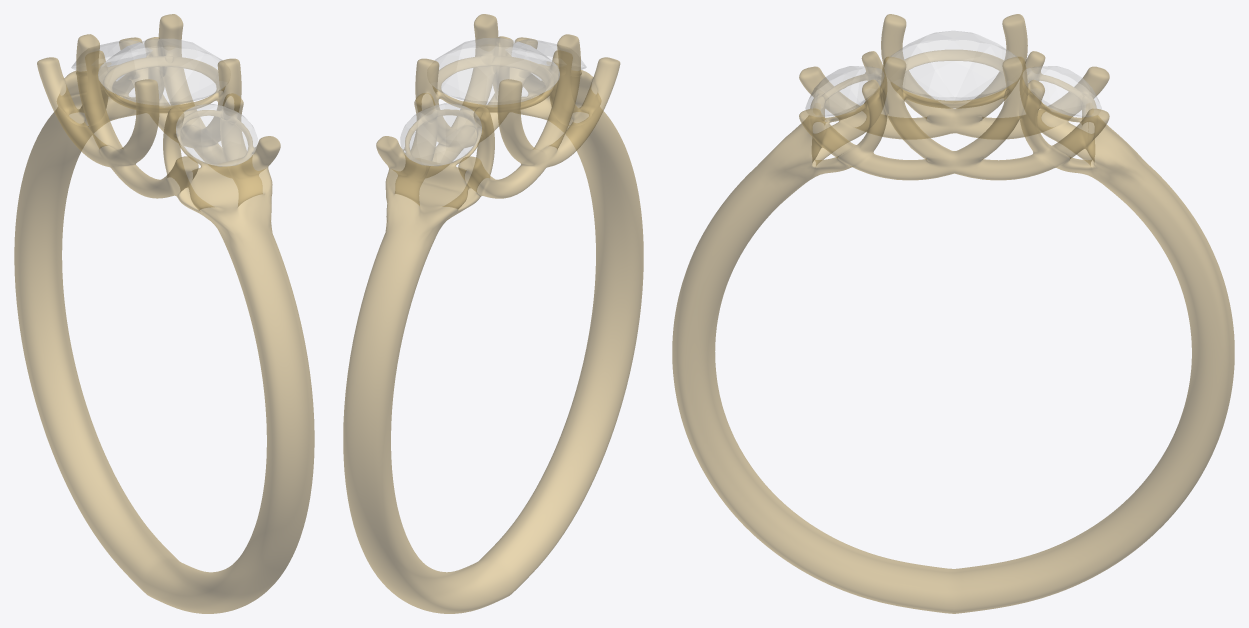
The picture shows the model from 3 angles, left to right: view 1: azimuth 30°, elevation 25°; view 2: azimuth 150°, elevation 25°; view 3: azimuth 270°, elevation 25°; orthographic projection. The views are drawn at different scales.
Visible parts, largest first — view 1: Ring, Diamond; view 2: Ring, Diamond; view 3: Ring, Diamond.
Part boxes in pixels (box(x1,y1,x2,y2)): Ring: box(14, 14, 314, 613); Diamond: box(71, 39, 257, 166); Ring: box(343, 14, 643, 613); Diamond: box(400, 38, 586, 165); Ring: box(672, 14, 1234, 613); Diamond: box(805, 31, 1101, 116).
Bounding box in the file's own units: 0.568 × 2.59 × 2.32.
